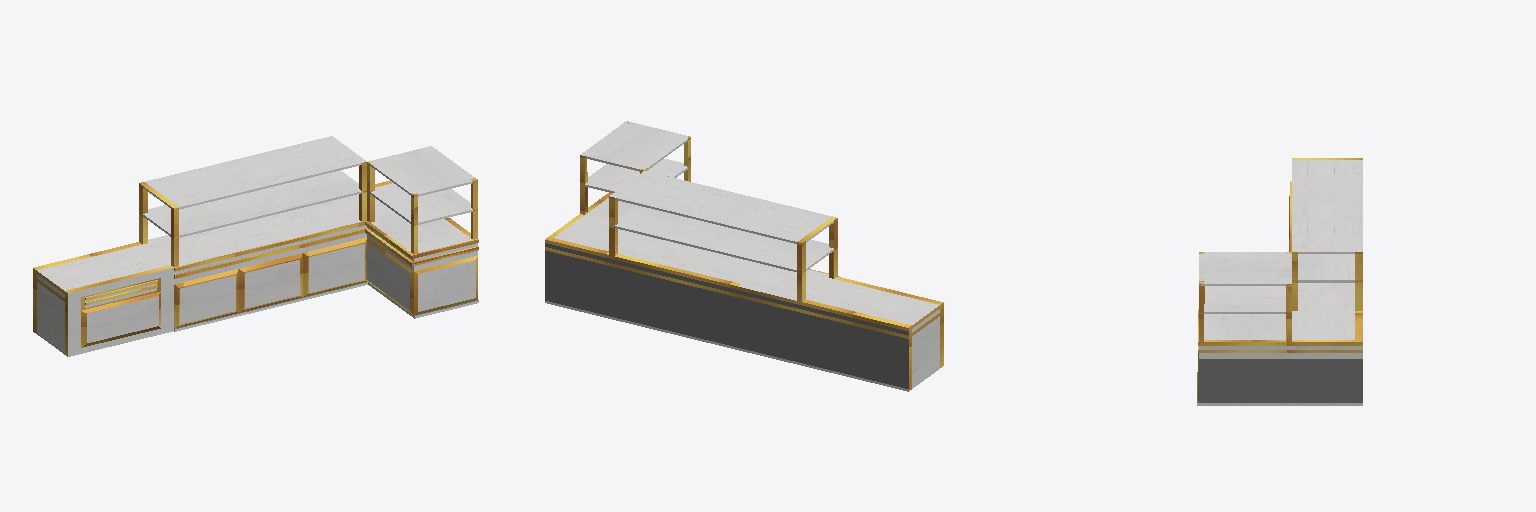
3 renders of one model, left to right at view 1: azimuth 30°, elevation 25°; view 2: azimuth 150°, elevation 25°; view 3: azimuth 270°, elevation 25°, orthographic.
Parts seen in each view (by area): view 1: polySurface1 Muebles1:polySurface8; view 2: polySurface1 Muebles1:polySurface8; view 3: polySurface1 Muebles1:polySurface8.
Part boxes in pixels (bbox=[...]): polySurface1 Muebles1:polySurface8: bbox=[33, 136, 478, 356]; polySurface1 Muebles1:polySurface8: bbox=[545, 121, 943, 391]; polySurface1 Muebles1:polySurface8: bbox=[1197, 158, 1362, 405].
Bounding box in the file's own units: 24.9 × 8.01 × 9.79.
Materials: 3 (2 with a texture image).